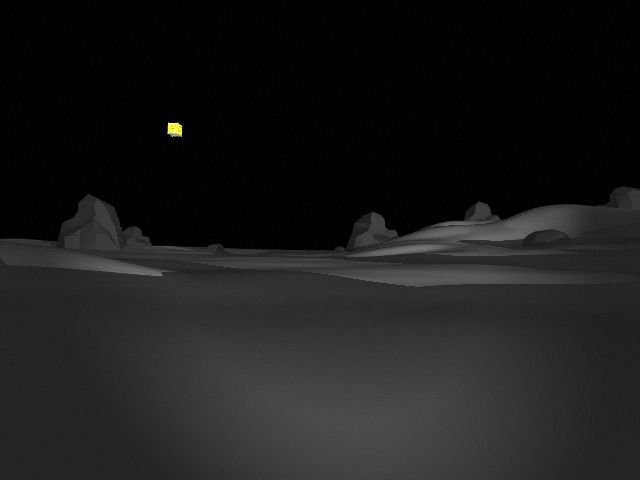cubesat: (164, 119, 185, 141)
